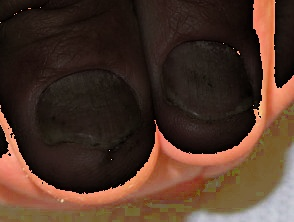Nail_psoriasis: (13, 38, 158, 179), (155, 26, 263, 134)
